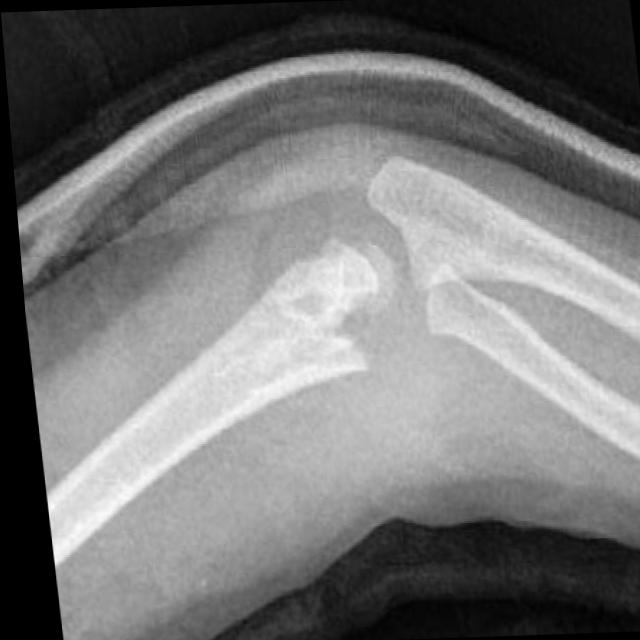fracture: (324, 255, 452, 384)
